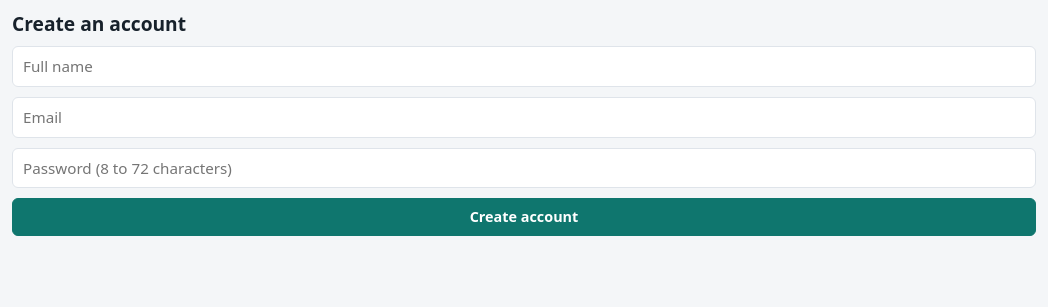
it: RegisterForm › shows the backend's field errors
In the field with placeholder "Full name": (524, 66) [12,46,1036,87], type "Test Player"
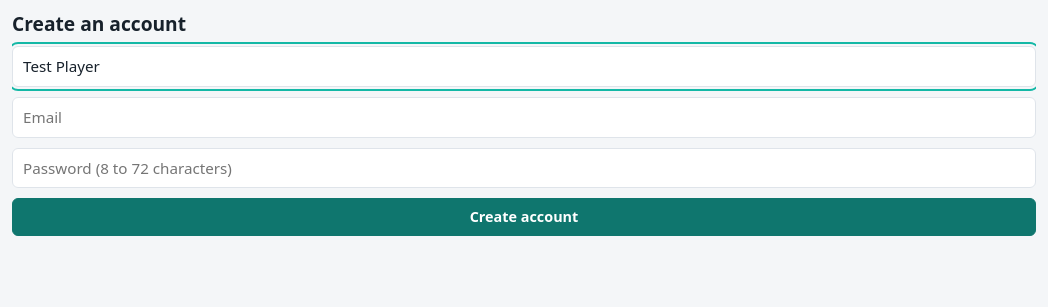
In the field with placeholder "Email": (524, 117) [12,97,1036,138], type "player@example.test"
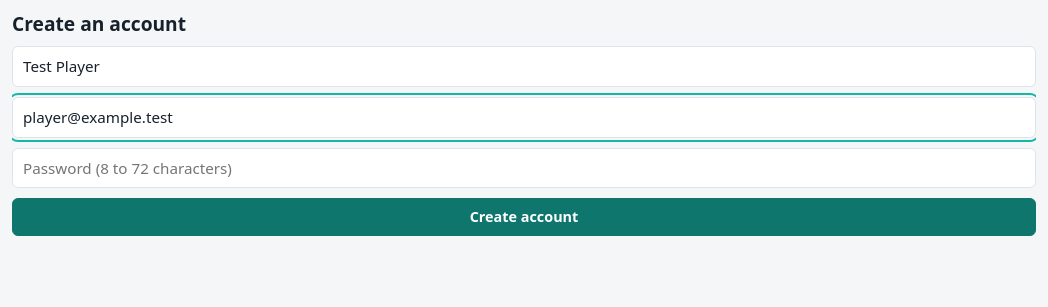
In the password field with placeholder "Password (8 to 72 characters)": (524, 168) [12,148,1036,188], type "long-enough-pw"
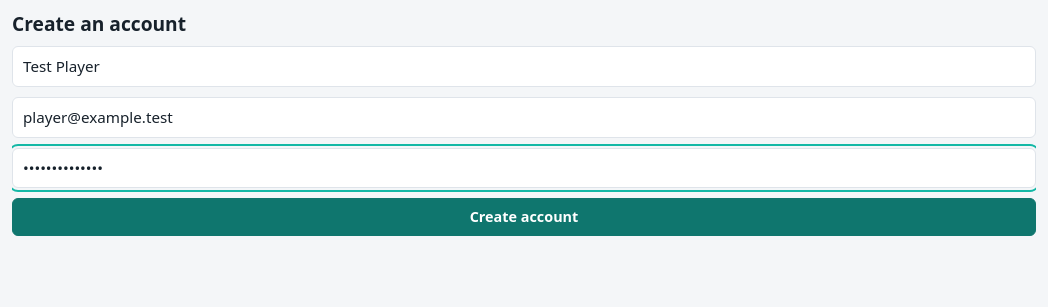
Click the button "Create account": (524, 217) [12,198,1036,236]
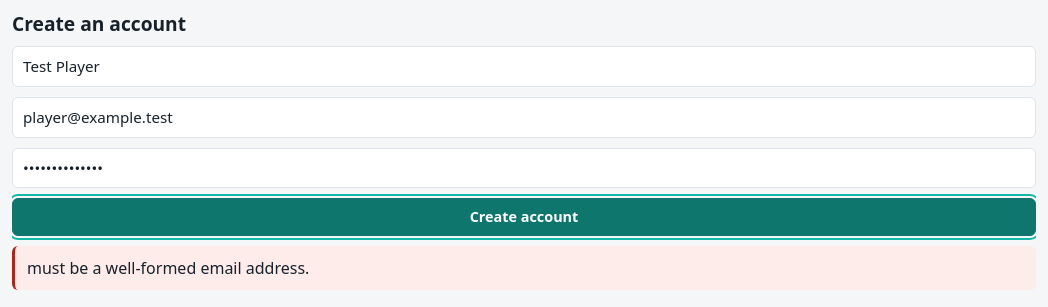
Result: the message reads "must be a well-formed email address." at [27,257,309,279]
